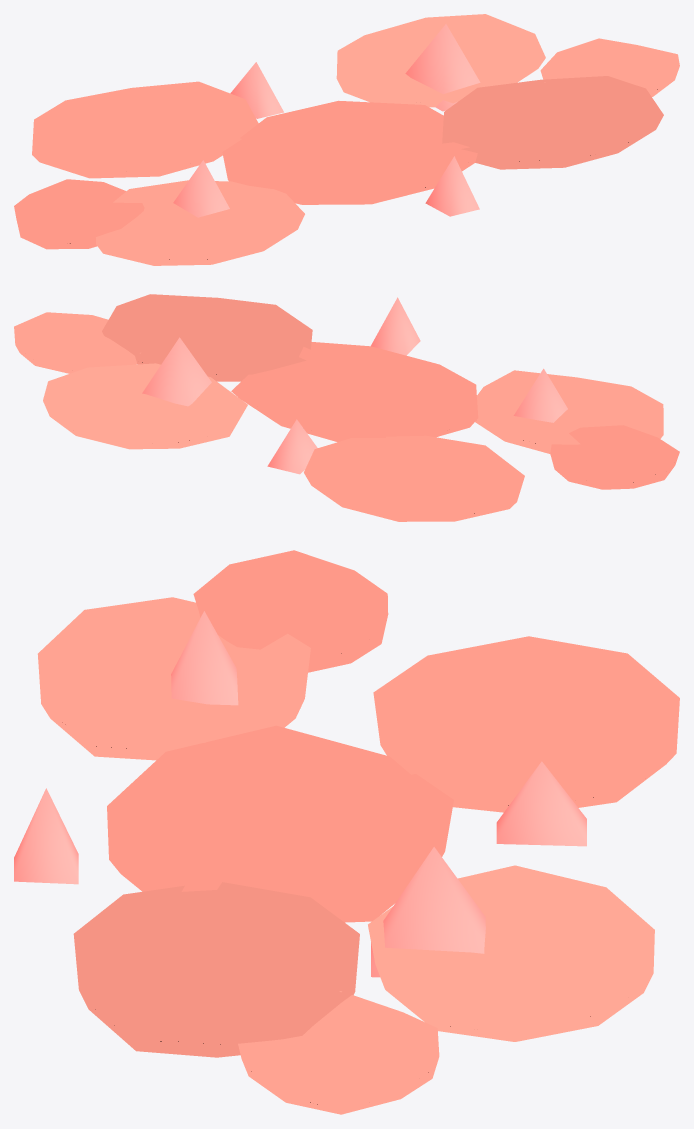
File: terrain_hazard_pressure.gltf
3 views of the same model, one above another, from view 1: azimuth 30°, elevation 25°; view 2: azimuth 150°, elevation 25°; view 3: azimuth 270°, elevation 25° (orthographic). The views are drawn at different scales.
Visible parts, largest first — view 1: terrain_hazard_pressure; view 2: terrain_hazard_pressure; view 3: terrain_hazard_pressure.
Boxes of the visible parts, x1,y1,x2,y2 form: terrain_hazard_pressure: (14,14,679,265); terrain_hazard_pressure: (14,294,679,521); terrain_hazard_pressure: (14,550,679,1114).
Bounding box in the file's own units: 3.54 × 0.34 × 1.85.
